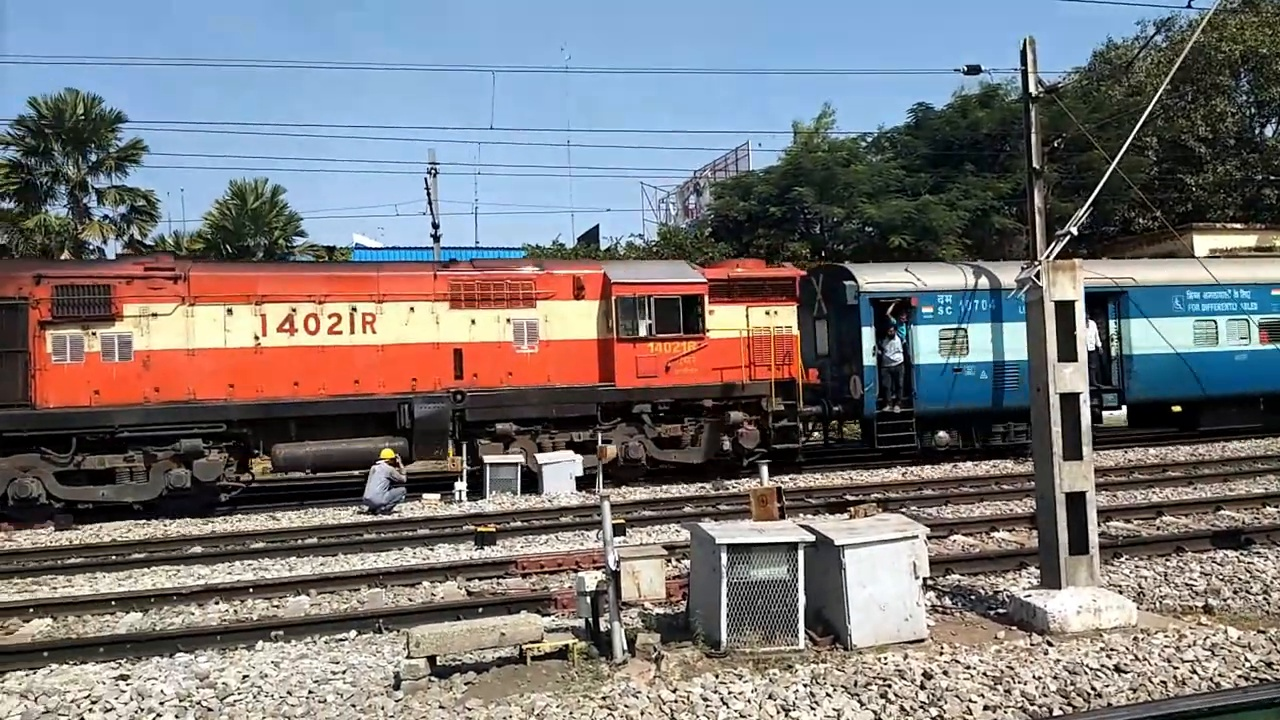Engine: (245, 300, 390, 345)
